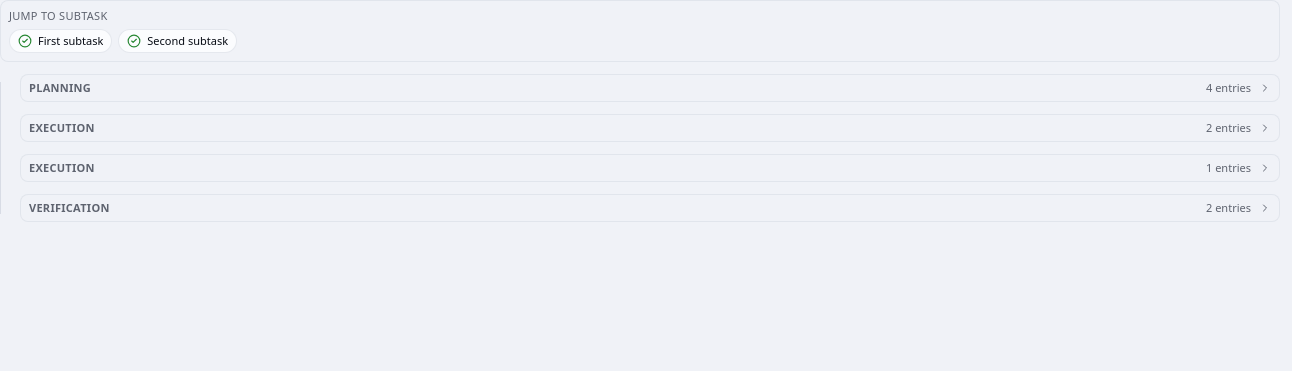
Test: SessionGraphView phase grouping › hides low-signal internal events behind a single toggle
Step 1. Click the 1st text "Execution" → (62, 128), box left=29, top=120, right=95, bottom=135
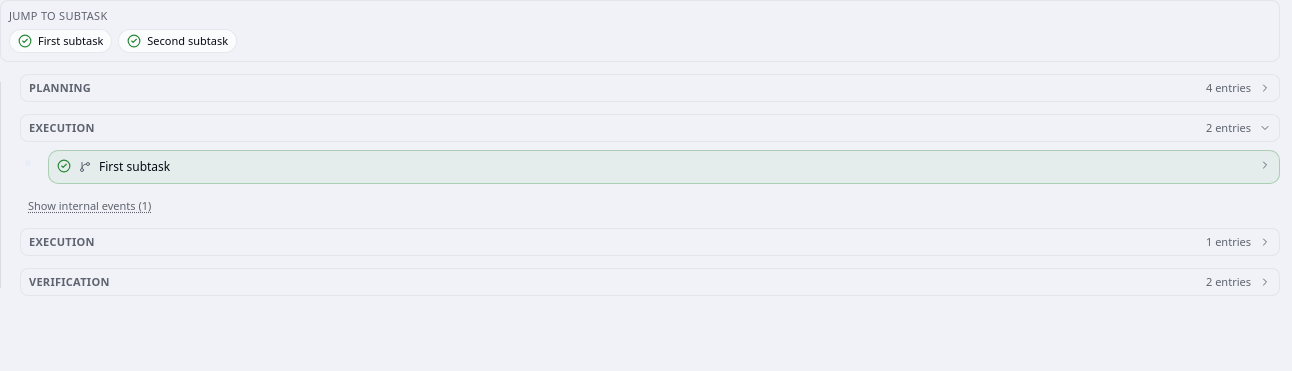
expect the text "Claude Code session" is not shown: met
Step 2. Click the button "Show internal events (1)" → (90, 206), box left=28, top=199, right=151, bottom=213
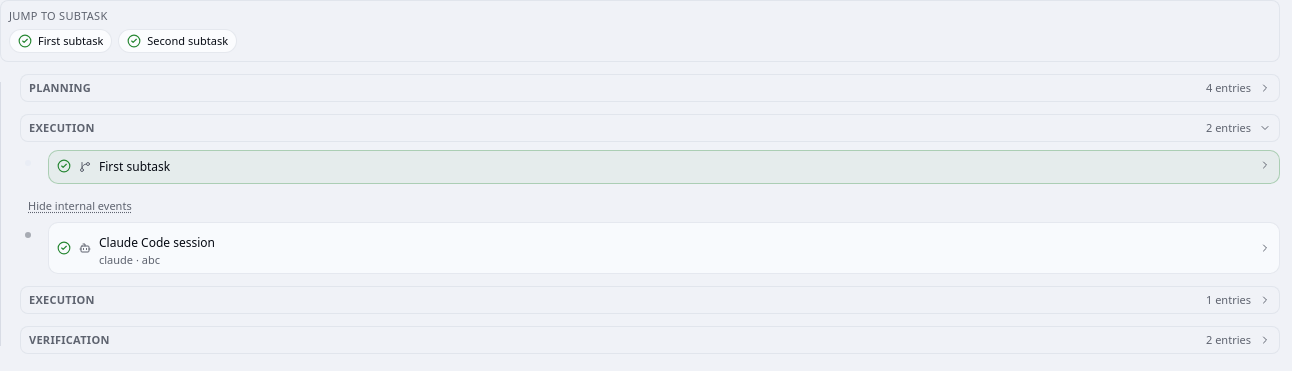
expect the text "Claude Code session" is shown: met, box left=99, top=234, right=215, bottom=251
